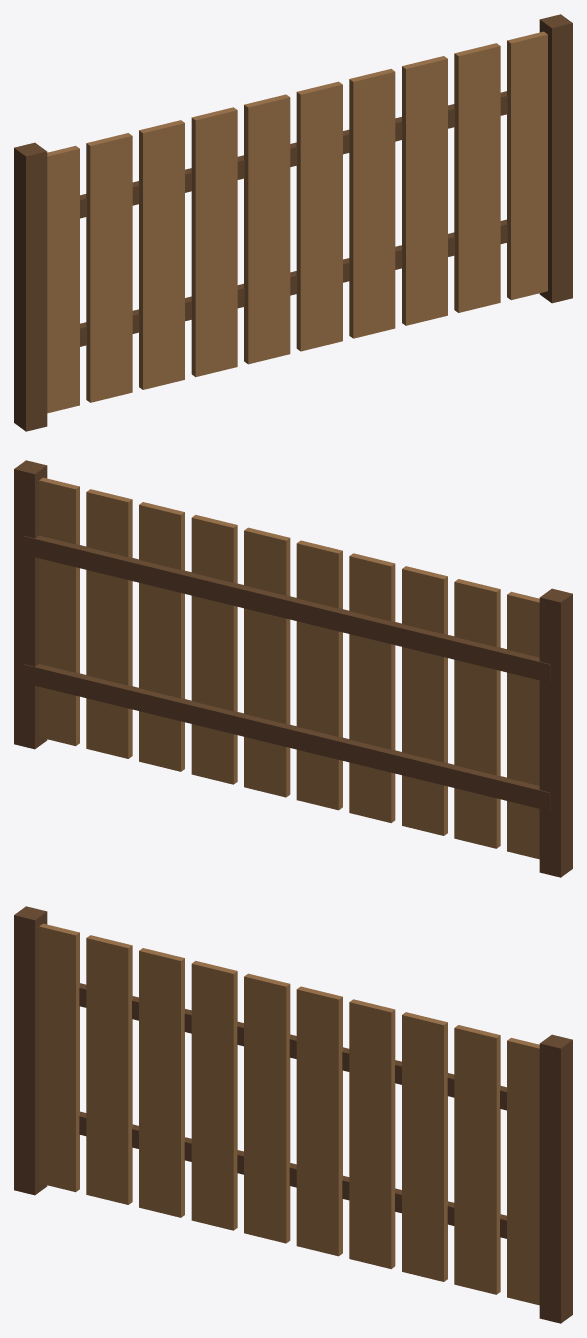
File: fence_wood.glb
The picture shows the model from 3 angles, top to bottom: view 1: azimuth 30°, elevation 25°; view 2: azimuth 150°, elevation 25°; view 3: azimuth 330°, elevation 25°; orthographic projection.
Visible parts, largest first — view 1: fence_wood; view 2: fence_wood; view 3: fence_wood.
Boxes of the visible parts, x1,y1,x2,y2 form: fence_wood: [14, 14, 572, 431]; fence_wood: [14, 460, 572, 877]; fence_wood: [14, 906, 572, 1323].
Bounding box in the file's own units: 3.12 × 1.5 × 0.125.
